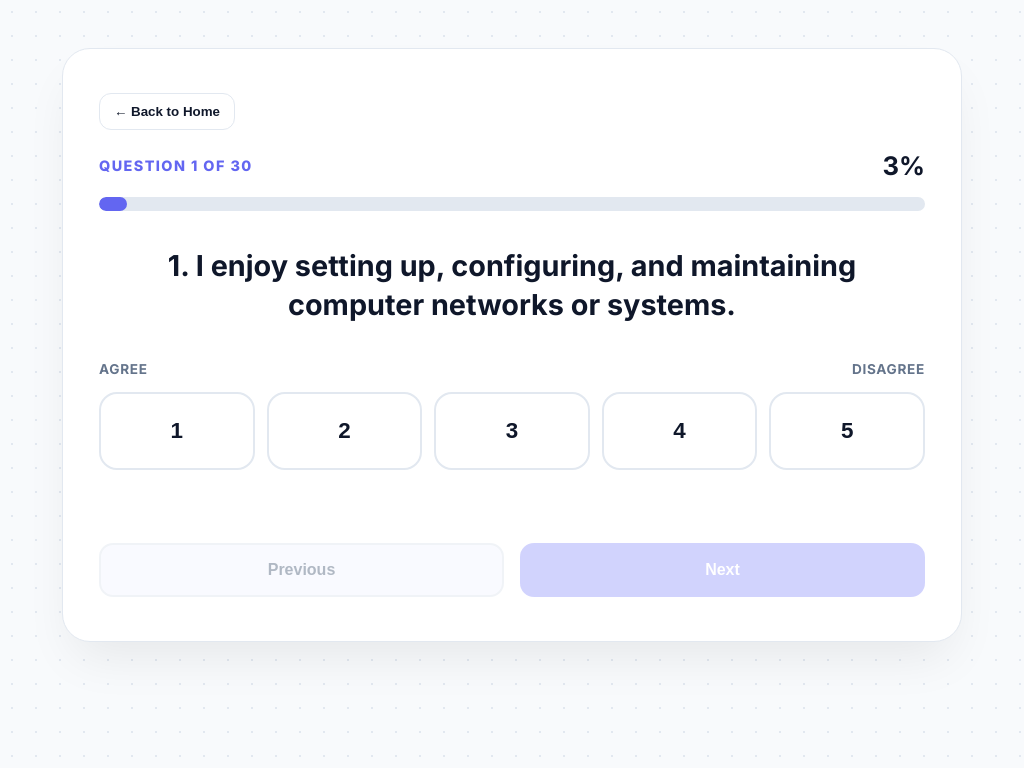
Test: InterestAssessmentQuiz › disables Next until the user selects a score
Check: the button with aria-label "Next question" is disabled, box [520,543,925,597]
Click the button named "Select score 5": (847, 431) [769,392,925,470]
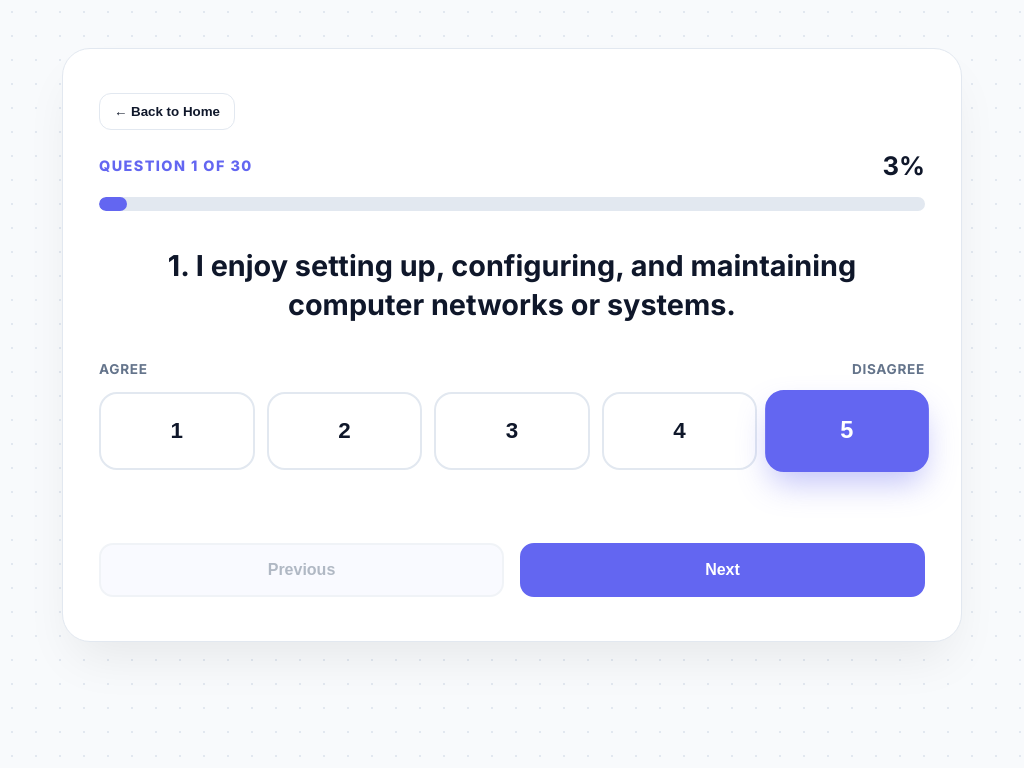
Check: the button with aria-label "Next question" is enabled, box [520,543,925,597]
